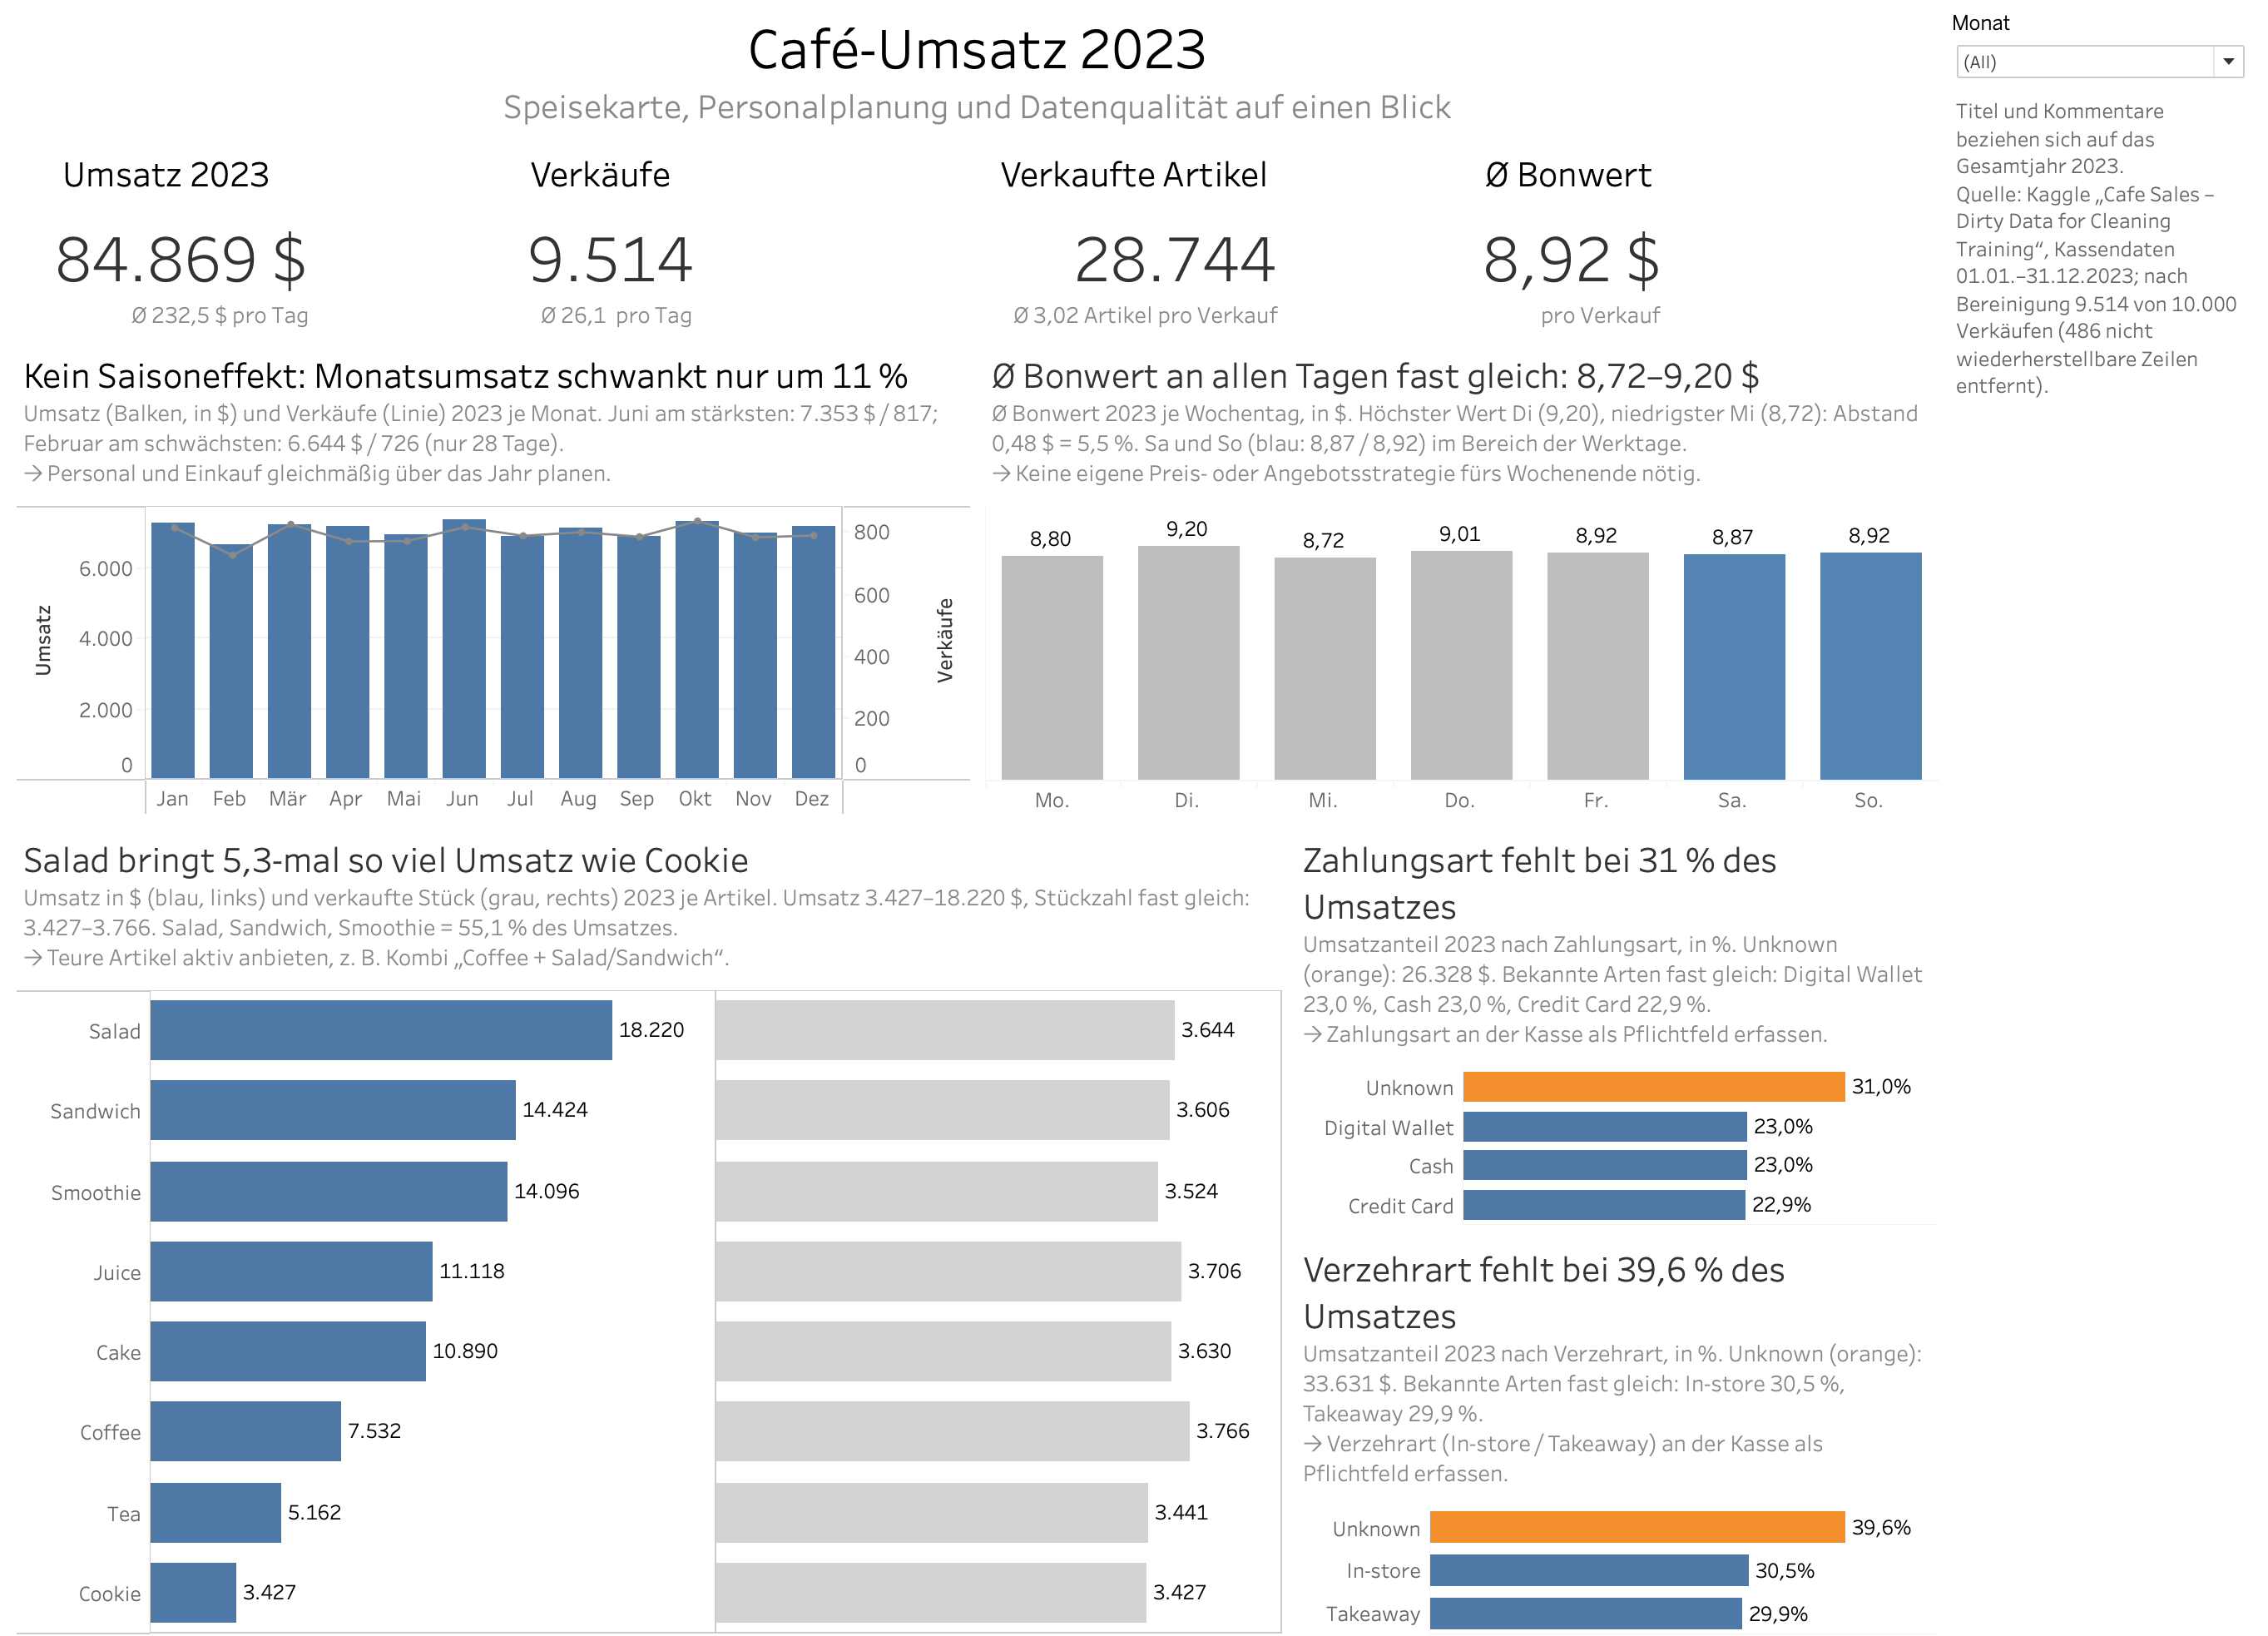

What the dashboard file says about the page in this screenshot:
{"tool":"tableau","page":{"name":"Übersicht","canvas":[1366,1000],"ordinal":0},"visuals":[{"type":"text","box":[8,8,1163,80]},{"type":"filter","title":"05_Trend_Month","param":"[federated.086512016wwnik1bjcc3l00jnpd1].[mn:transaction_date:ok]","box":[1171,8,187,52]},{"type":"text","box":[1171,60,187,195]},{"type":"worksheet","title":"01_KPI_Revenue","mark":"Automatic","box":[8,88,291,121]},{"type":"worksheet","title":"02_KPI_Sales","mark":"Automatic","box":[299,88,291,121]},{"type":"worksheet","title":"03_KPI_Items","mark":"Automatic","box":[590,88,291,121]},{"type":"worksheet","title":"04_KPI_AvgCheck","mark":"Automatic","box":[881,88,290,121]},{"type":"worksheet","title":"05_Trend_Month","mark":"Bar","rows":["total_spent","transaction_id"],"cols":["transaction_date"],"box":[8,209,582,291]},{"type":"worksheet","title":"06_Weekday","mark":"Bar","rows":["Calculation_0156470372233220"],"cols":["transaction_date"],"box":[590,209,581,291]},{"type":"worksheet","title":"07_Items","mark":"Bar","rows":["item"],"cols":["total_spent","quantity"],"box":[8,500,769,492]},{"type":"worksheet","title":"08a_Payment","mark":"Automatic","rows":["payment_method"],"box":[777,500,394,246]},{"type":"worksheet","title":"08b_Location","mark":"Automatic","rows":["location"],"box":[777,746,394,246]}]}

Visuals, with their boxes in screenshot pixels (x1, y1, x2, y2), scaled from the page's 1366x1000 canvas onto the 2268x1636 screenshot:
text: [left=13, top=13, right=1944, bottom=144]
"05_Trend_Month" filter: [left=1944, top=13, right=2255, bottom=98]
text: [left=1944, top=98, right=2255, bottom=417]
"01_KPI_Revenue" worksheet: [left=13, top=144, right=497, bottom=342]
"02_KPI_Sales" worksheet: [left=497, top=144, right=979, bottom=342]
"03_KPI_Items" worksheet: [left=979, top=144, right=1463, bottom=342]
"04_KPI_AvgCheck" worksheet: [left=1463, top=144, right=1944, bottom=342]
"05_Trend_Month" worksheet (Bar marks): [left=13, top=342, right=979, bottom=818]
"06_Weekday" worksheet (Bar marks): [left=979, top=342, right=1944, bottom=818]
"07_Items" worksheet (Bar marks): [left=13, top=818, right=1290, bottom=1623]
"08a_Payment" worksheet: [left=1290, top=818, right=1944, bottom=1221]
"08b_Location" worksheet: [left=1290, top=1221, right=1944, bottom=1623]
